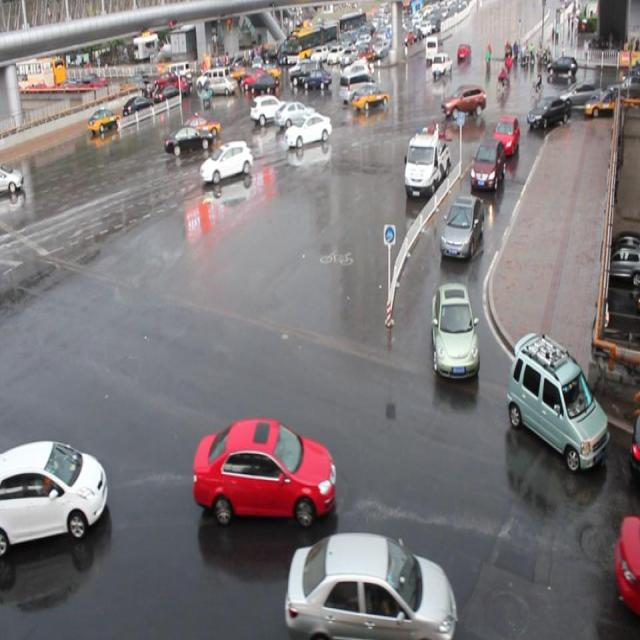bus: (402, 133, 450, 199)
car: (284, 530, 456, 640), (191, 415, 335, 526), (504, 330, 610, 468), (1, 440, 109, 550), (428, 281, 480, 378), (439, 194, 483, 259), (612, 514, 640, 612), (201, 140, 252, 184), (468, 135, 504, 190), (285, 110, 332, 151), (441, 83, 486, 118), (527, 96, 570, 130), (164, 124, 213, 153), (488, 114, 519, 155), (249, 92, 286, 121), (180, 112, 220, 138), (351, 83, 388, 111), (274, 99, 315, 124), (1, 166, 23, 192)
truck: (339, 70, 375, 102)
